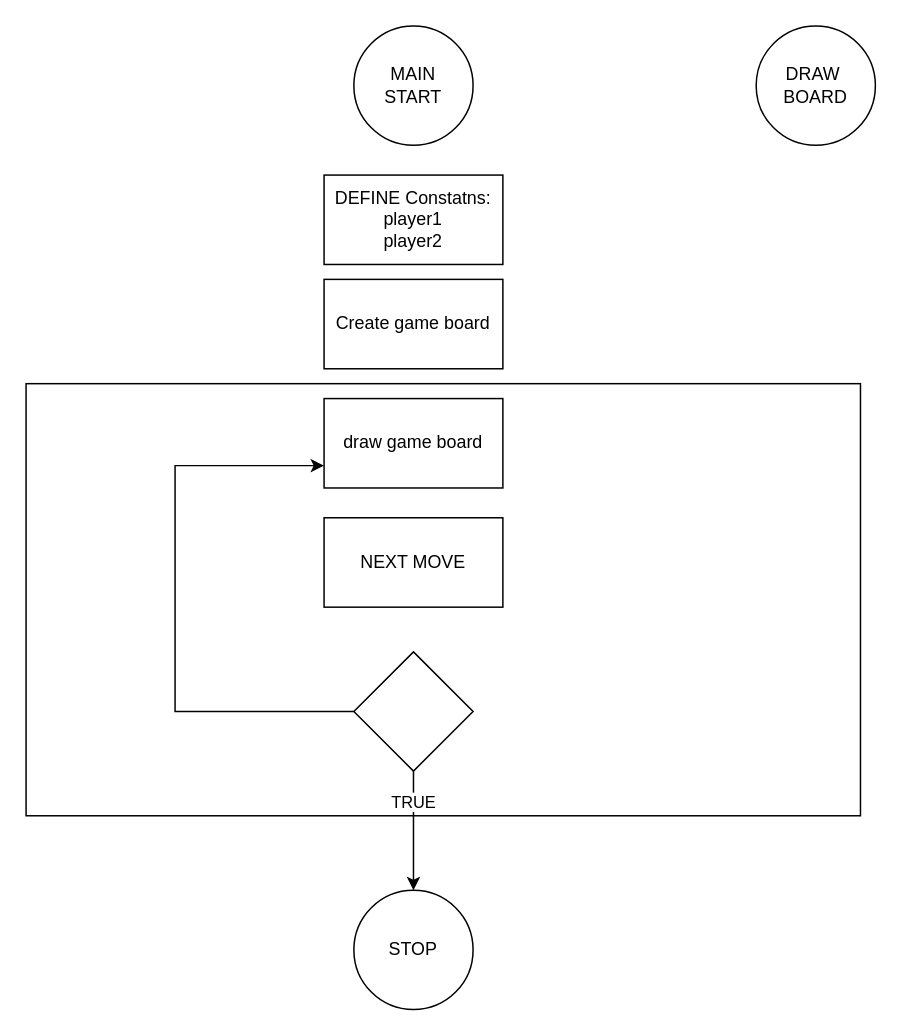
Image size: 901x1036. Some labels were removed from this diagram. Each missing label, with the box of its shape:
GAME LOOP: (25, 382, 860, 816)
GAME OVER: (352, 650, 473, 771)
